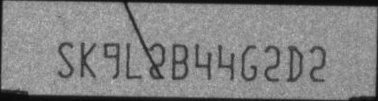2: (263, 45, 282, 84), (309, 45, 327, 82), (149, 42, 166, 79)
4: (194, 43, 212, 81), (217, 43, 235, 80)
9: (102, 41, 120, 79)
B: (170, 42, 190, 80)
D: (286, 44, 304, 82)
G: (240, 44, 257, 82)
K: (80, 40, 97, 79)
L: (124, 42, 141, 79)
S: (56, 42, 75, 79)
